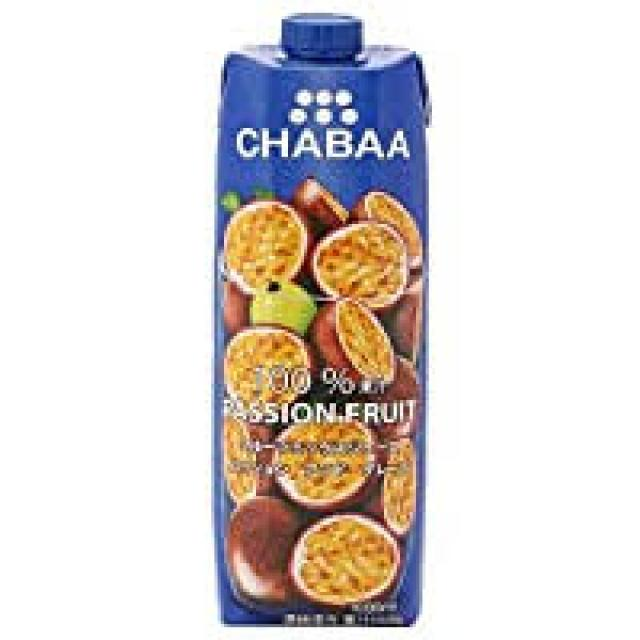non_white_jug: (198, 16, 436, 621)
